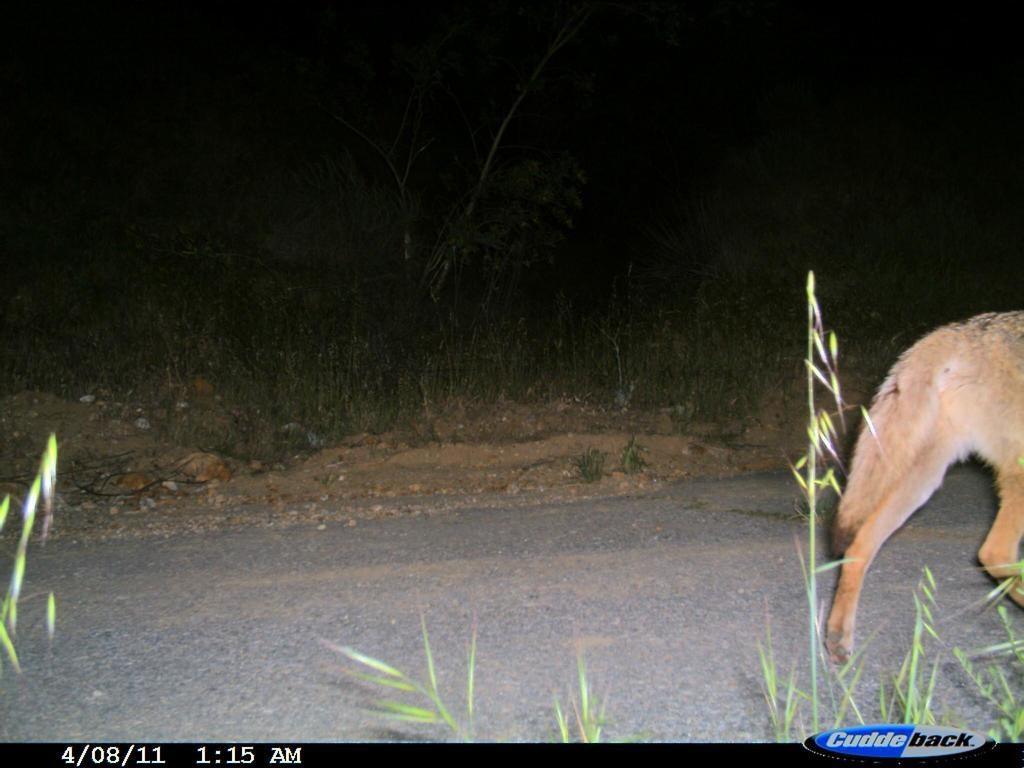coyote: (807, 296, 1023, 674)
